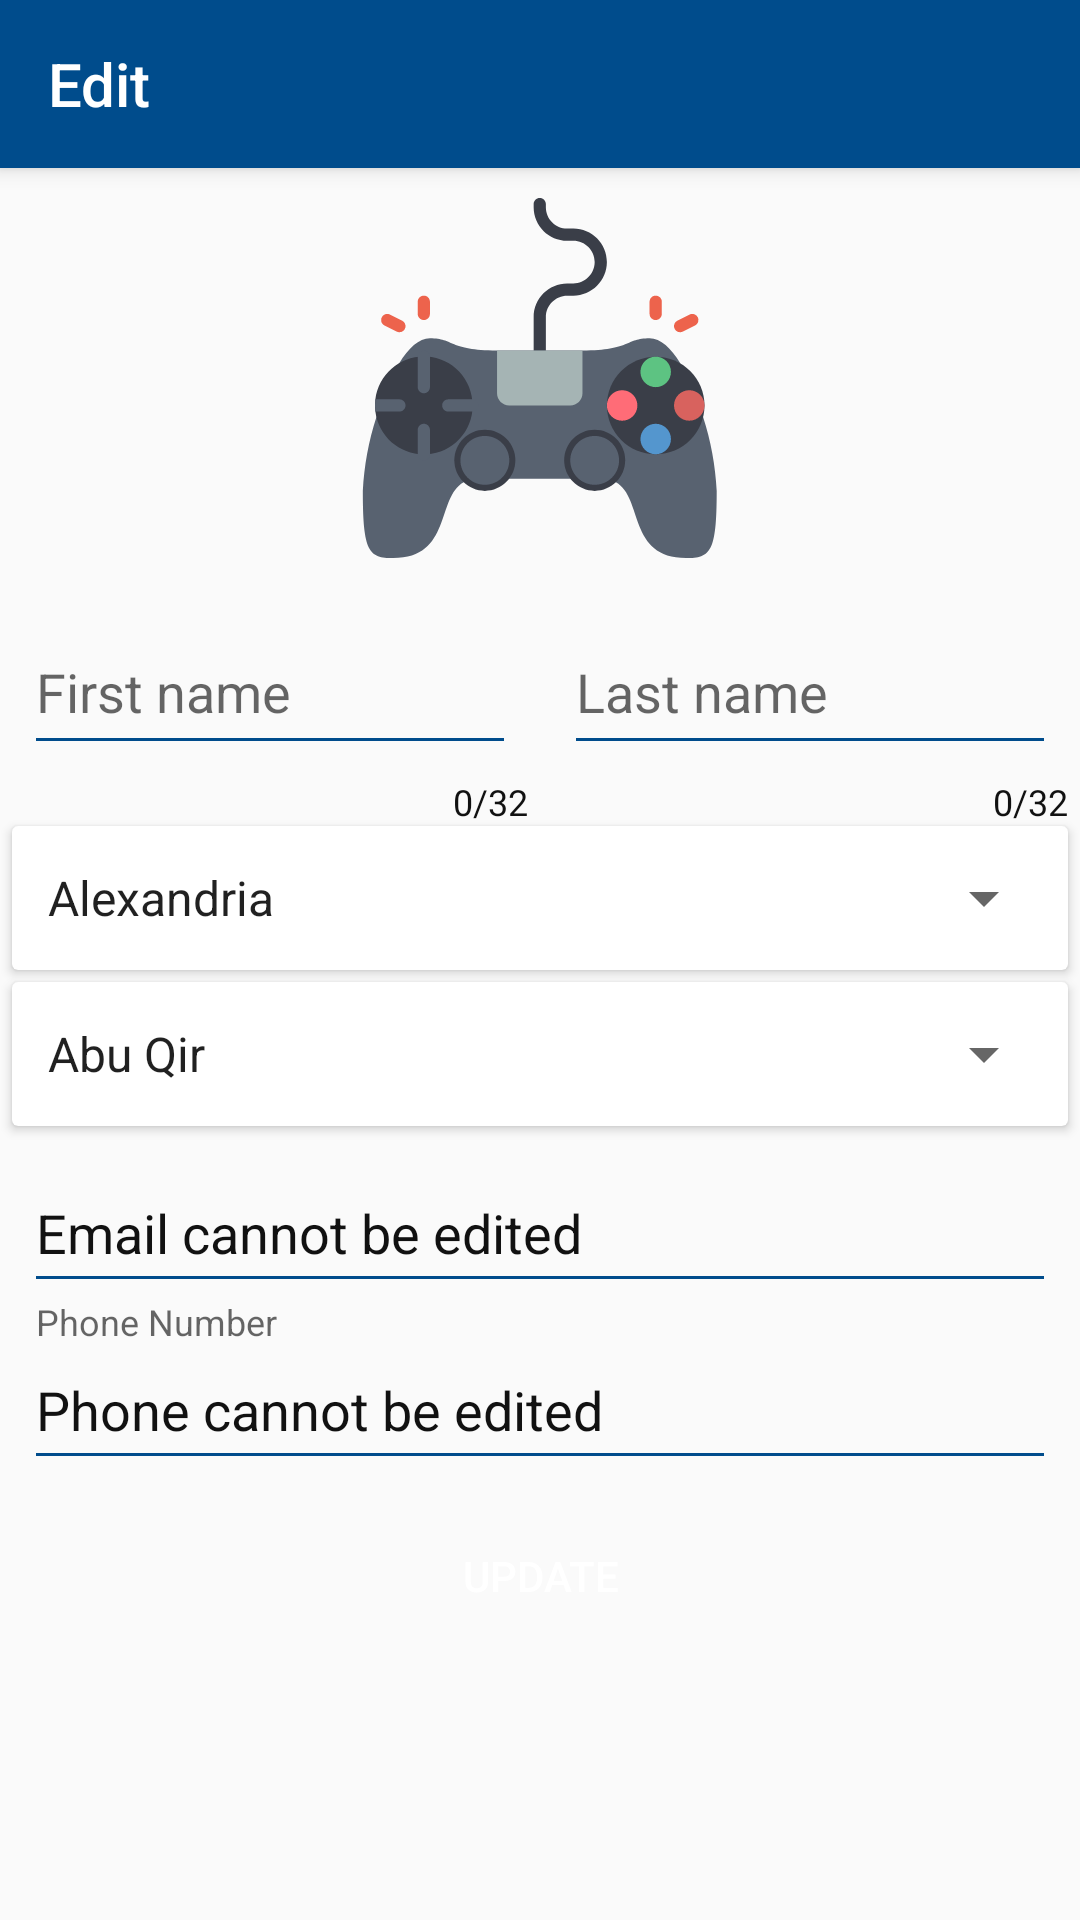

Named icons in this screenshot (1080 × 1920) and their centers, (x,y):
controller: (539,378)
